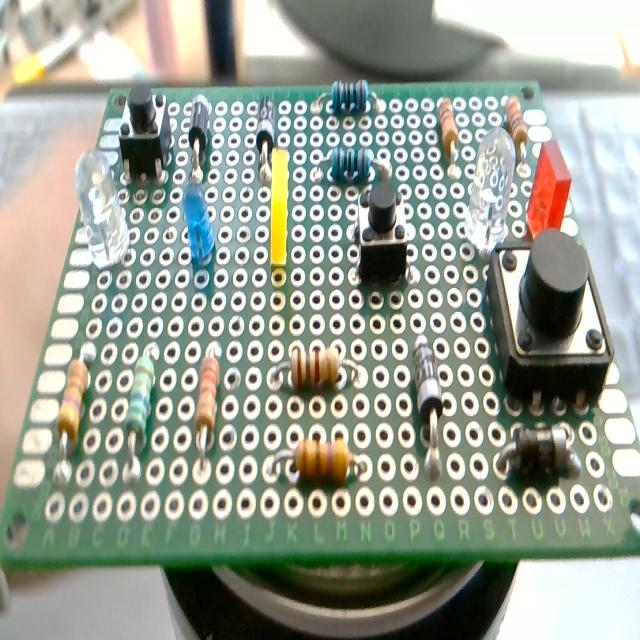diode: (486, 414, 584, 481), (409, 326, 451, 468), (270, 147, 290, 274), (254, 92, 276, 183)
led: (68, 141, 138, 280), (469, 117, 513, 255), (531, 128, 579, 247), (178, 182, 218, 268)
resistor: (121, 329, 163, 475), (268, 434, 368, 484), (270, 344, 362, 392), (192, 342, 224, 467), (58, 354, 91, 446), (313, 79, 381, 115), (331, 145, 373, 181), (505, 94, 527, 152), (438, 96, 458, 158)
switch: (485, 233, 612, 406), (349, 167, 417, 291), (119, 84, 172, 182), (188, 92, 211, 168)
